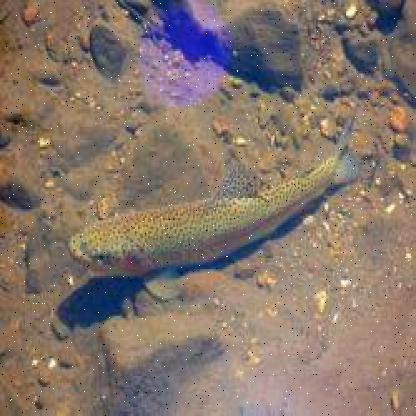fish: (64, 116, 362, 300)
